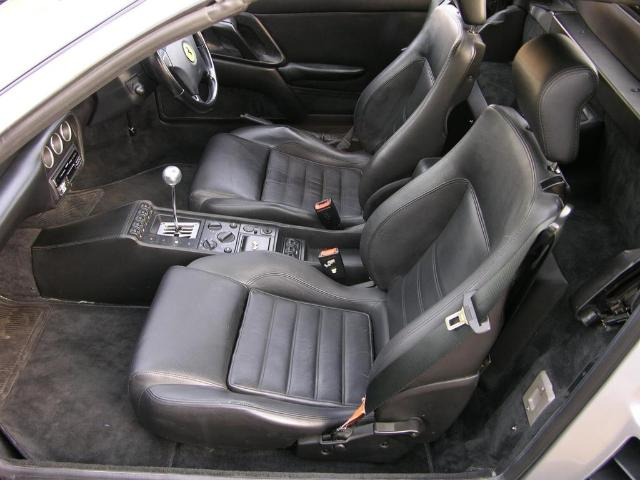Seatbelt: (333, 210, 562, 430)
